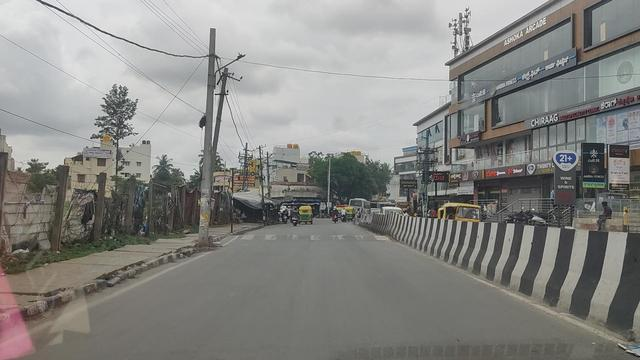LMV: (297, 207, 311, 224), (289, 207, 299, 224), (330, 208, 338, 224)
SpeedBump: (242, 233, 387, 244)
